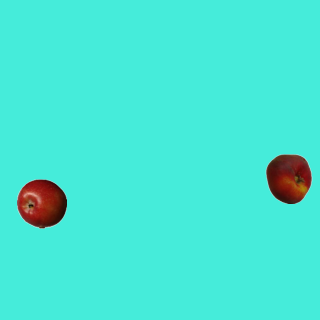Apple Braeburn: (16, 178, 66, 228)
Nectarine Flat: (263, 153, 313, 203)
